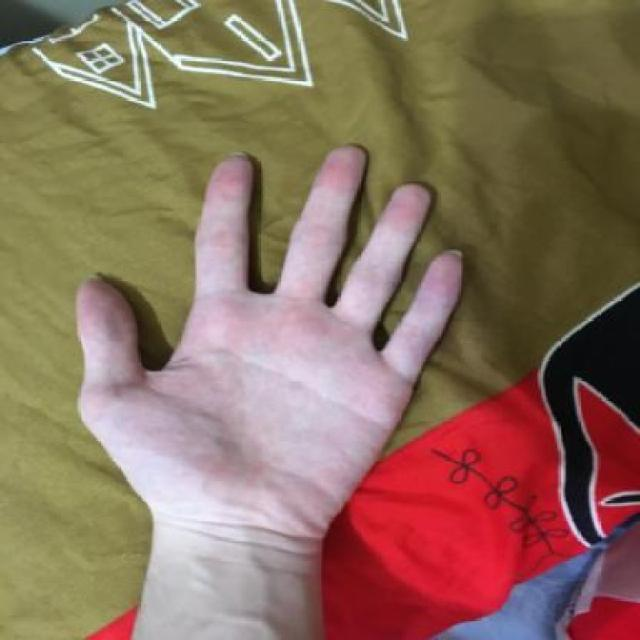bare_hand: (54, 126, 478, 576)
